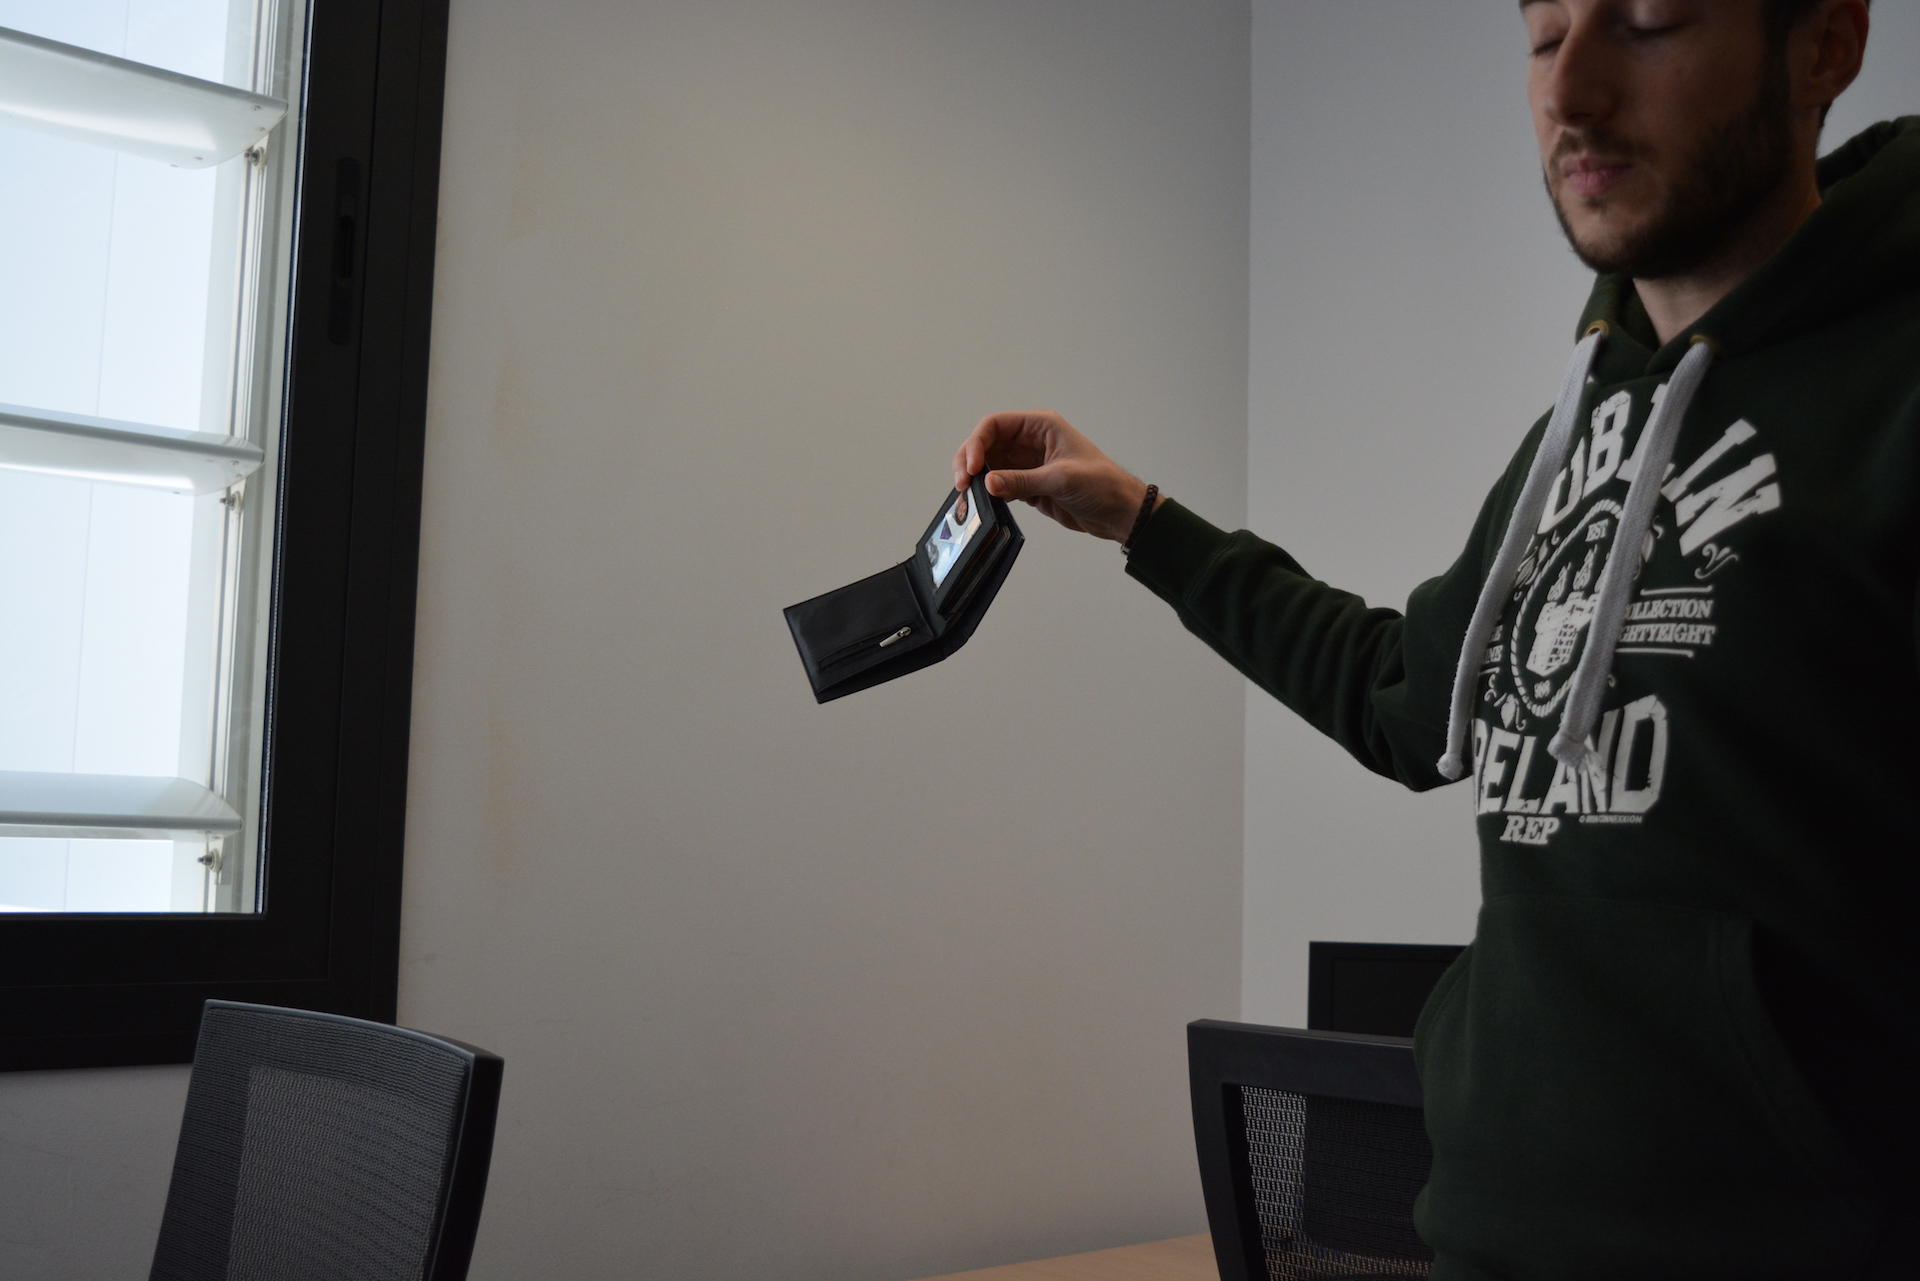monedero: (781, 455, 1026, 706)
